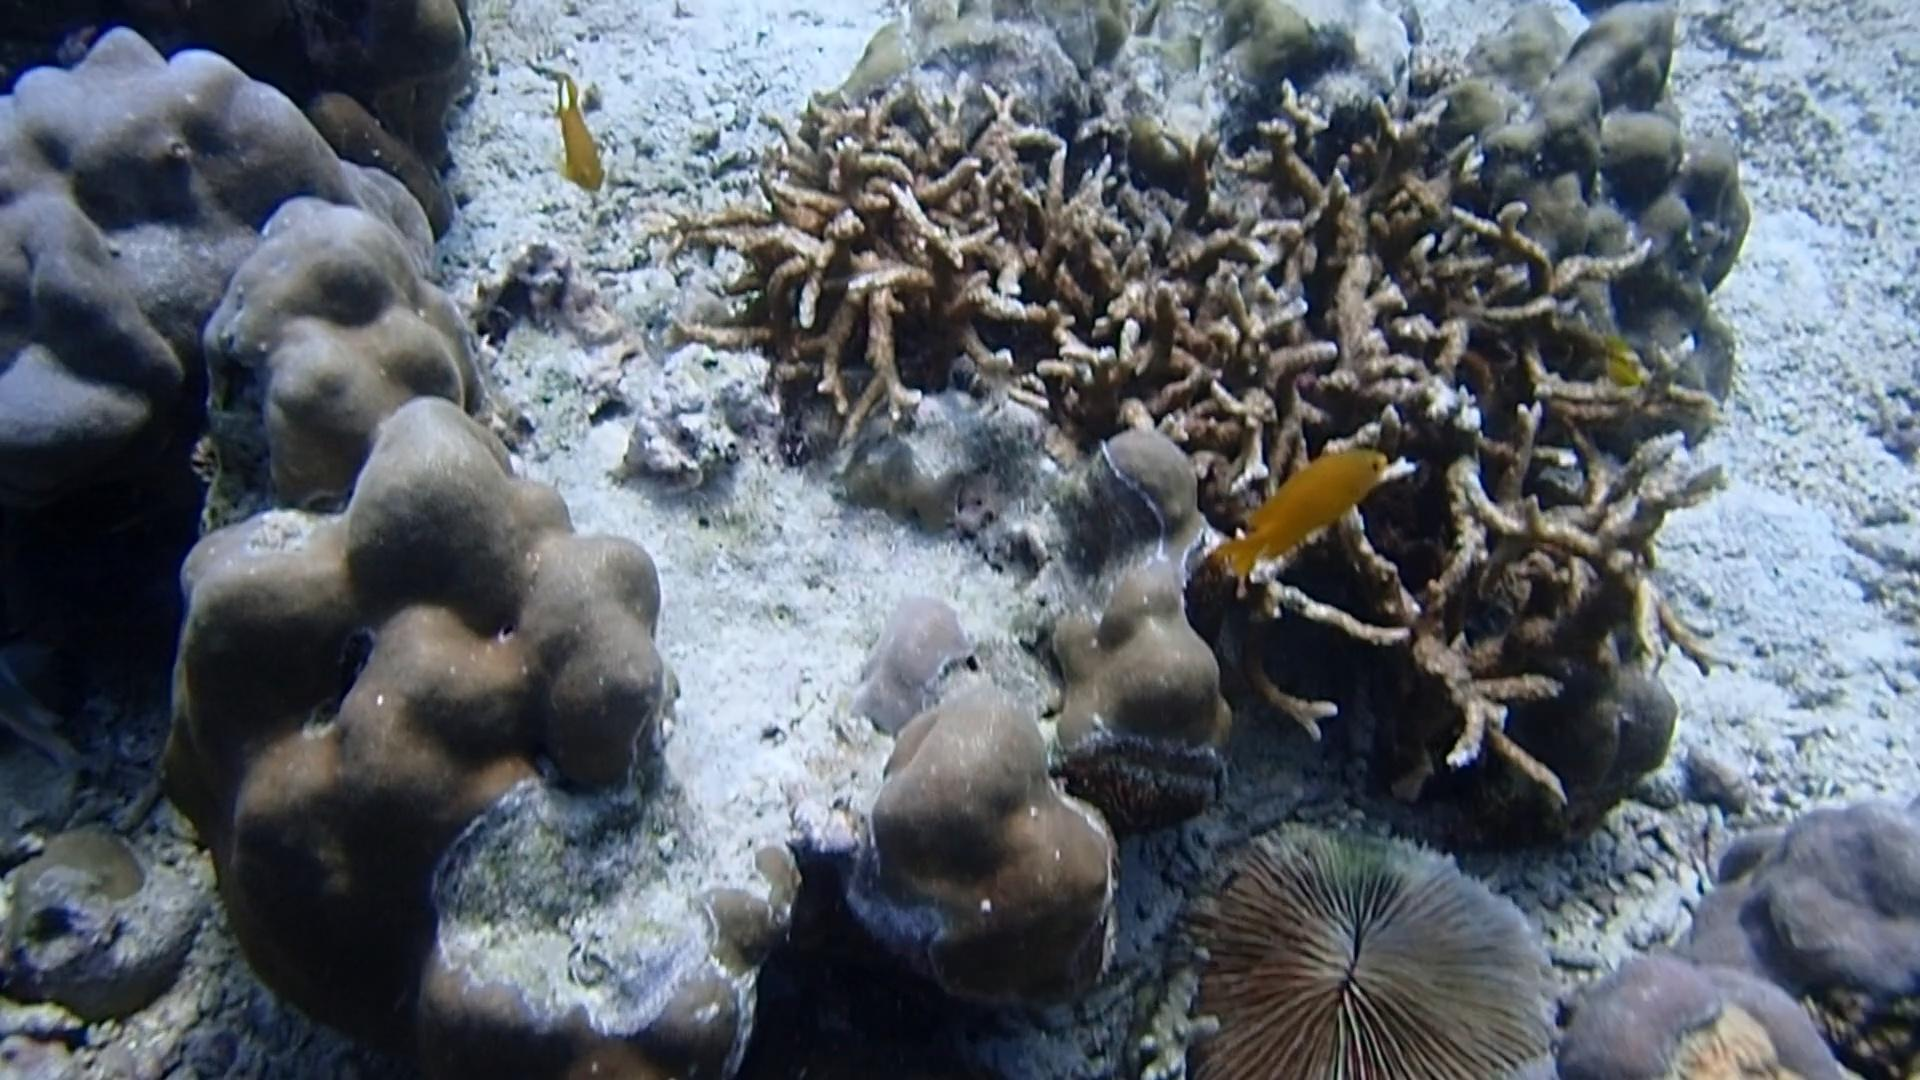Yellow Fish: (1201, 434, 1403, 595), (537, 66, 607, 204), (1592, 360, 1654, 398)
